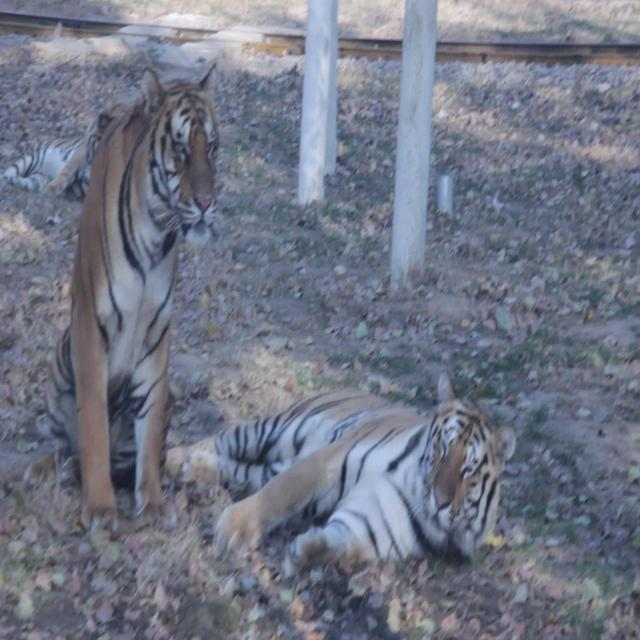tiger: (21, 56, 222, 533), (164, 370, 516, 581), (163, 386, 420, 497), (0, 135, 92, 200)
